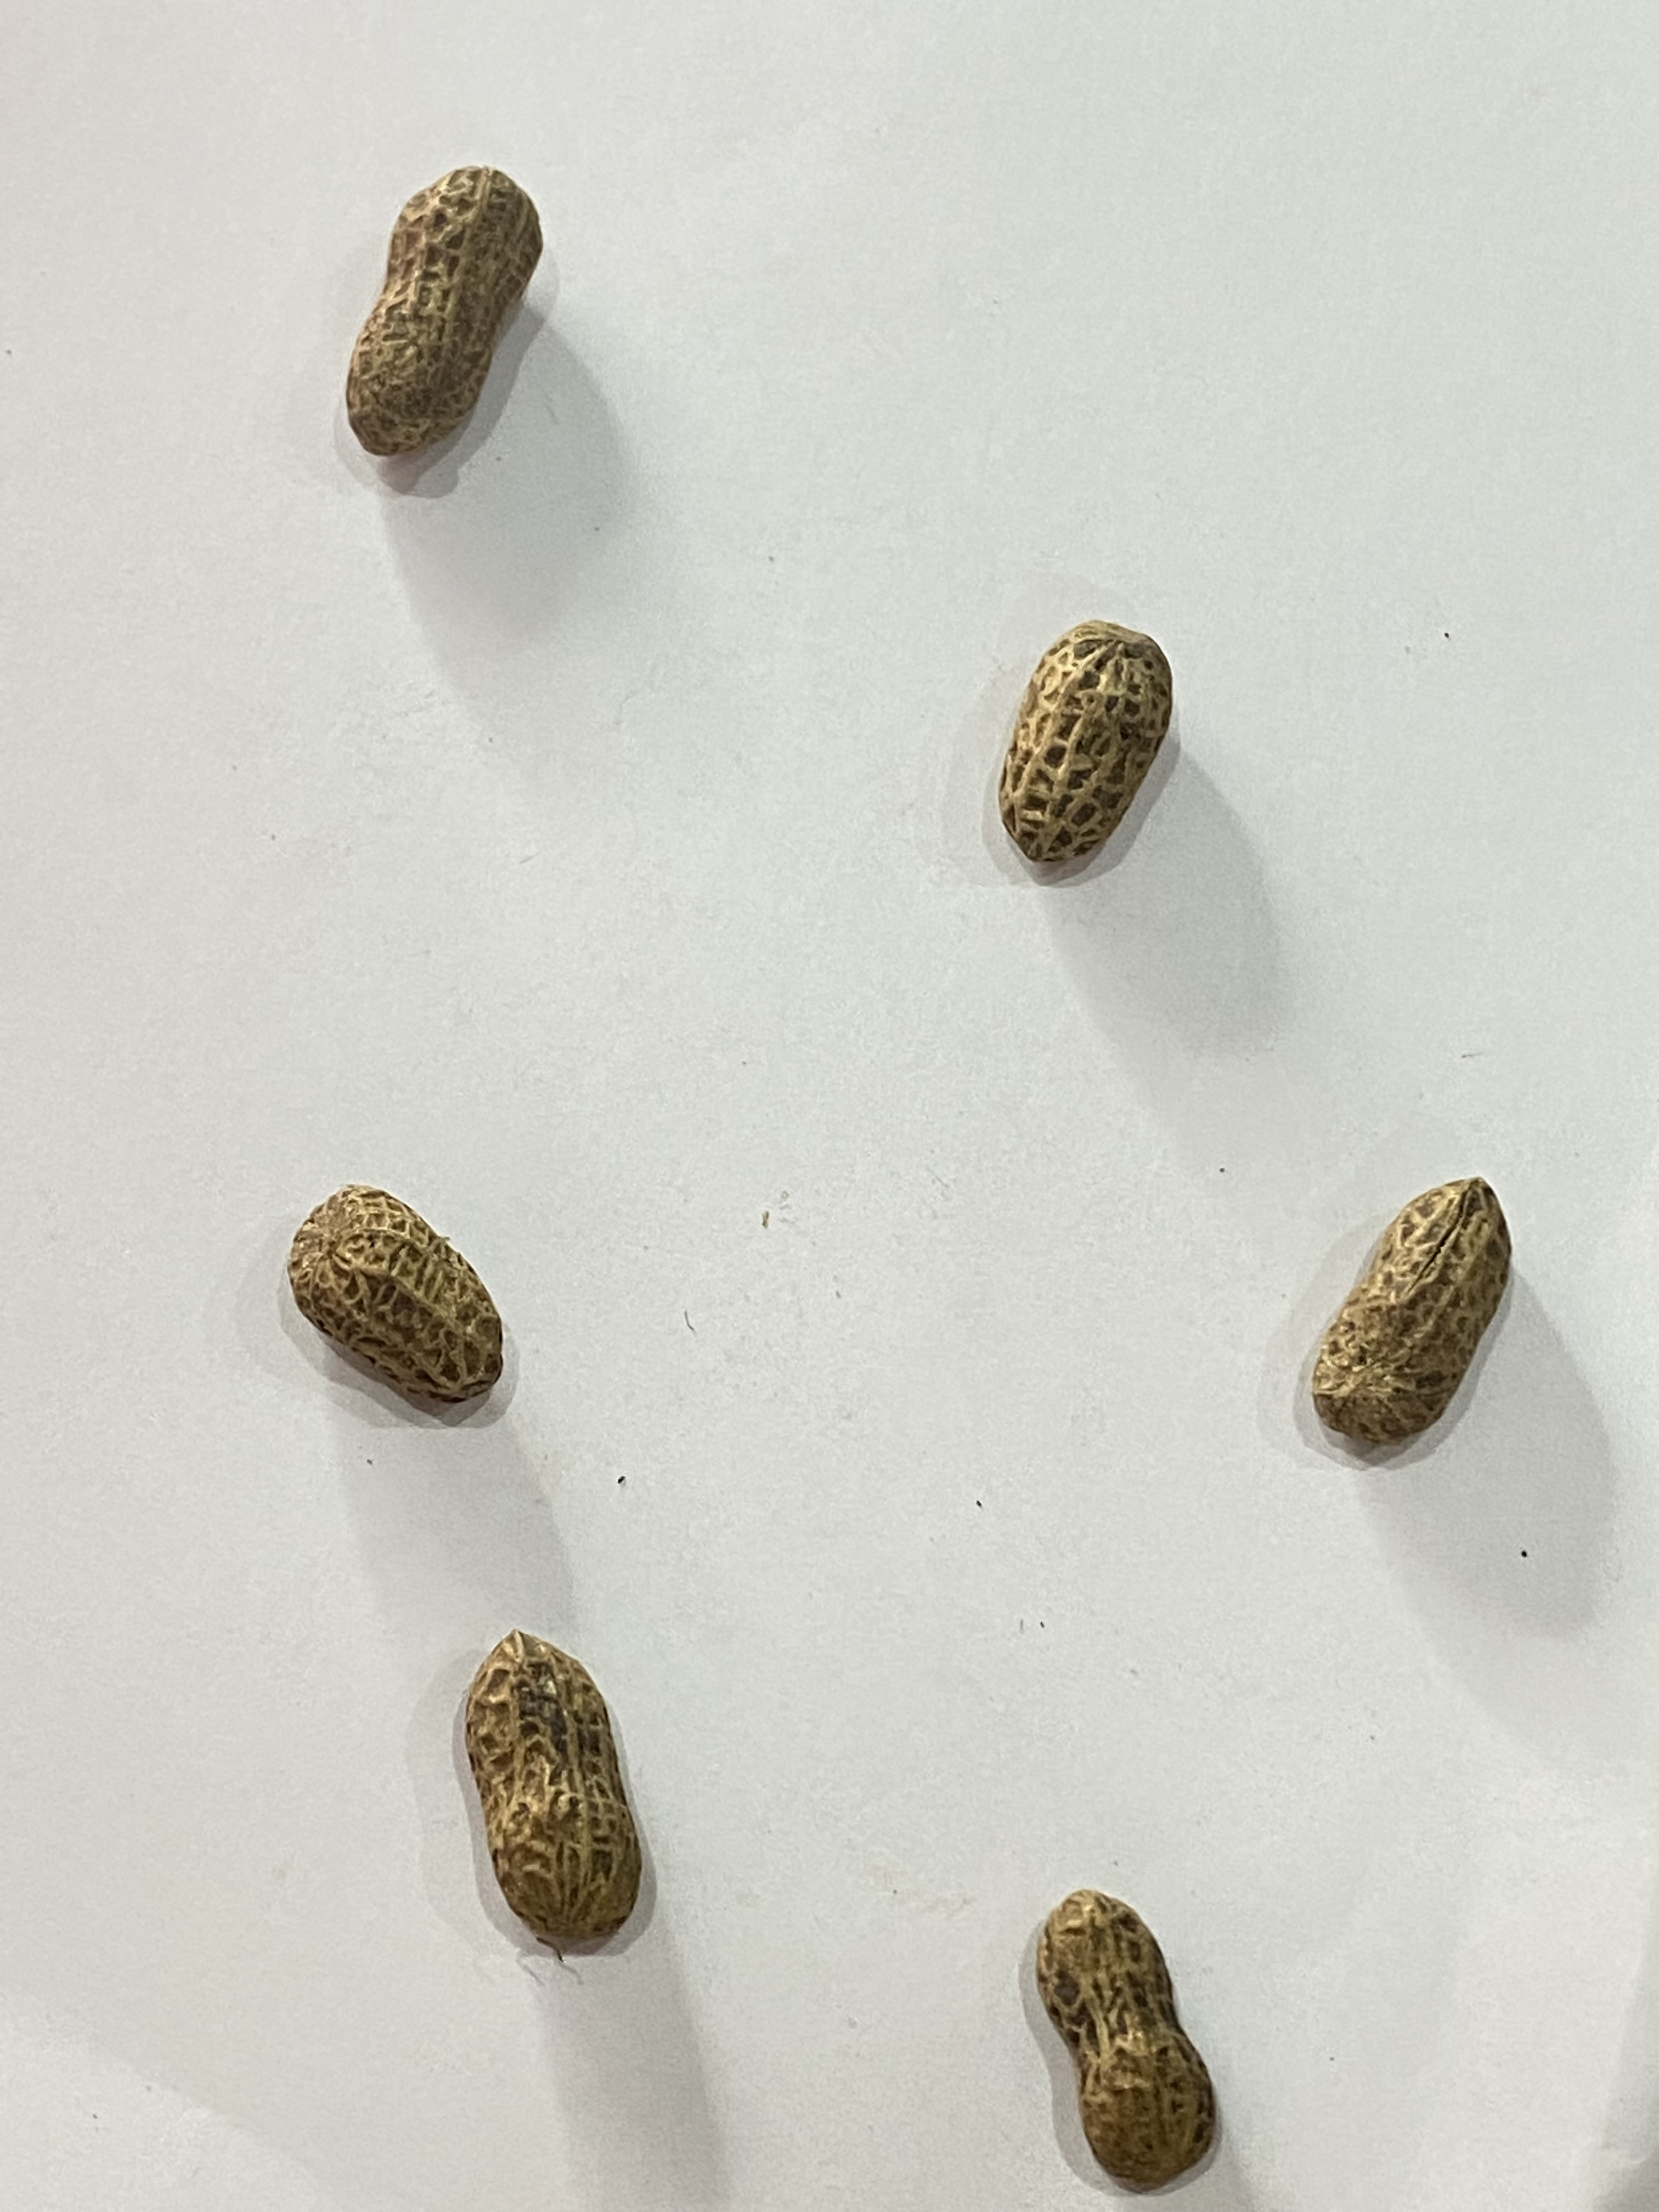kacang1: (995, 582, 1188, 900), (261, 1188, 526, 1407)
kacang2: (300, 136, 580, 469), (1012, 1885, 1270, 2186), (450, 1620, 666, 1977), (1304, 1160, 1541, 1463)
